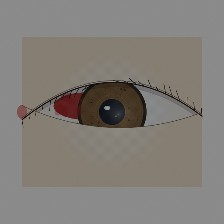hemorrhage_spot: (41, 70, 131, 142)
